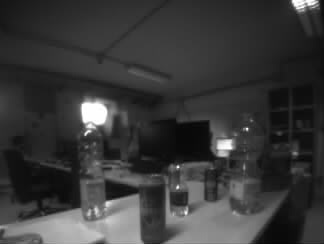Bottle: (231, 115, 260, 212), (78, 123, 105, 219), (170, 162, 187, 217)
Tin can: (140, 176, 165, 244), (205, 167, 217, 201)
